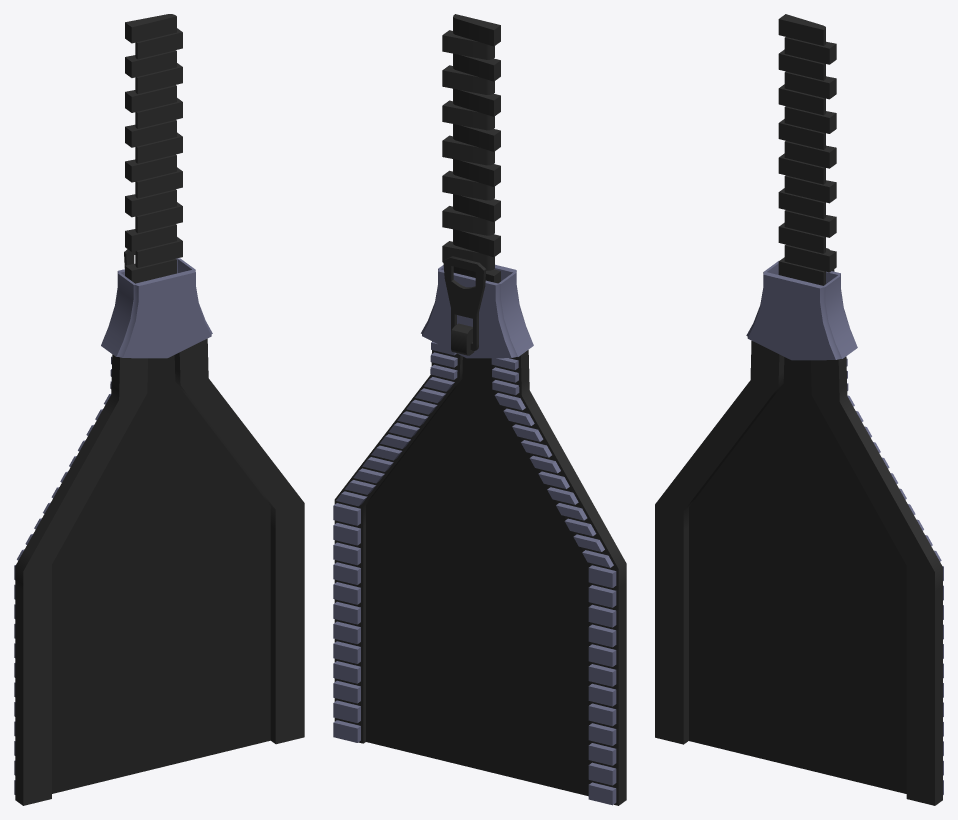
File: Zipper.fbx
The picture shows the model from 3 angles, left to right: view 1: azimuth 30°, elevation 25°; view 2: azimuth 150°, elevation 25°; view 3: azimuth 330°, elevation 25°; orthographic projection.
Visible parts, largest first — view 1: Cylinder.011, ziper; view 2: Cylinder.011, ziper; view 3: Cylinder.011, ziper.
Part boxes in pixels (box(x1,y1,x2,y2)): Cylinder.011: box(52, 355, 270, 793); ziper: box(14, 14, 304, 805); Cylinder.011: box(366, 356, 589, 796); ziper: box(333, 14, 626, 805); Cylinder.011: box(689, 357, 906, 793); ziper: box(655, 14, 943, 805).
Bounding box in the file's own units: 559 × 1414 × 97.89.
